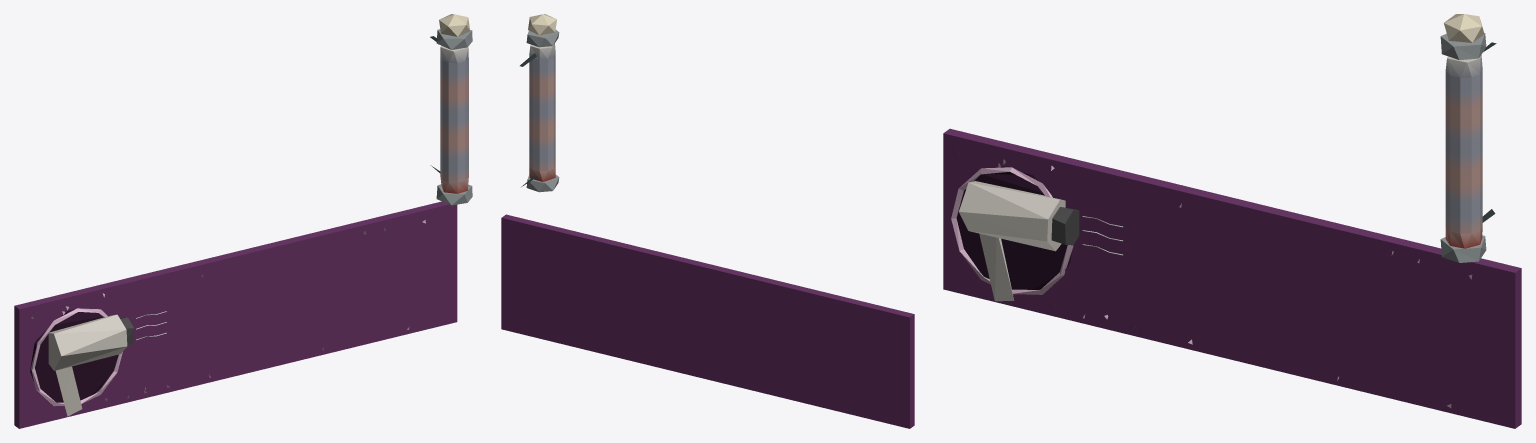
Rendered from bang_salon_toc_my_linh_48.glb.
3 views of the same model, side by side, from view 1: azimuth 30°, elevation 25°; view 2: azimuth 150°, elevation 25°; view 3: azimuth 330°, elevation 25° (orthographic). The views are drawn at different scales.
Visible parts, largest first — view 1: bang_salon_toc_my_linh_48; view 2: bang_salon_toc_my_linh_48; view 3: bang_salon_toc_my_linh_48.
Boxes of the visible parts, x1,y1,x2,y2 form: bang_salon_toc_my_linh_48: (14,14,472,428); bang_salon_toc_my_linh_48: (501,14,914,428); bang_salon_toc_my_linh_48: (943,14,1521,428).
Size of the model in its own units: 4.6 by 3.27 by 0.5854.
